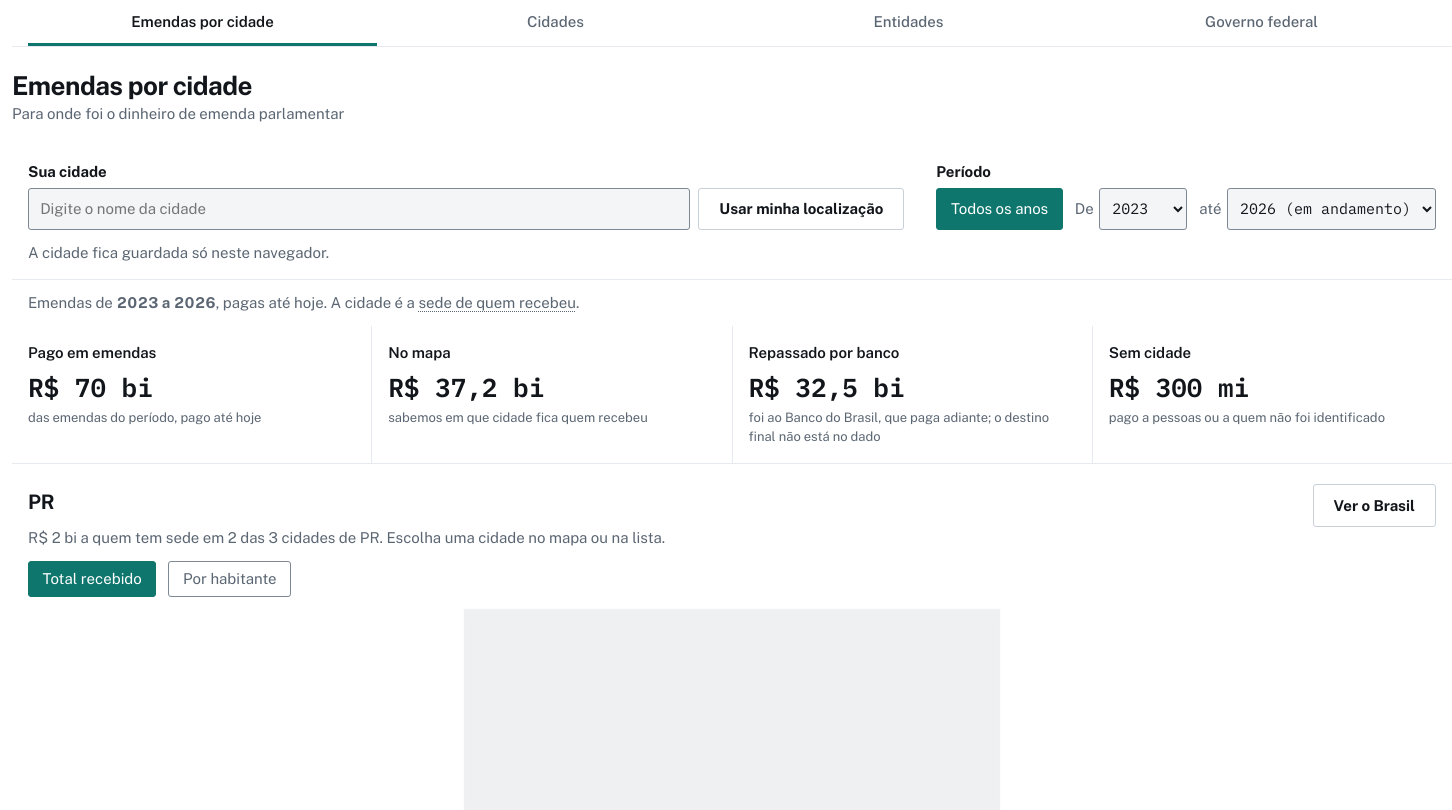
it: as cidades por habitante › reordena as cidades do estado pelo valor por habitante
Step 1. Click the button "Por habitante" → (230, 579), box top-left (168, 561), bottom-right (291, 597)
(page scrolled)
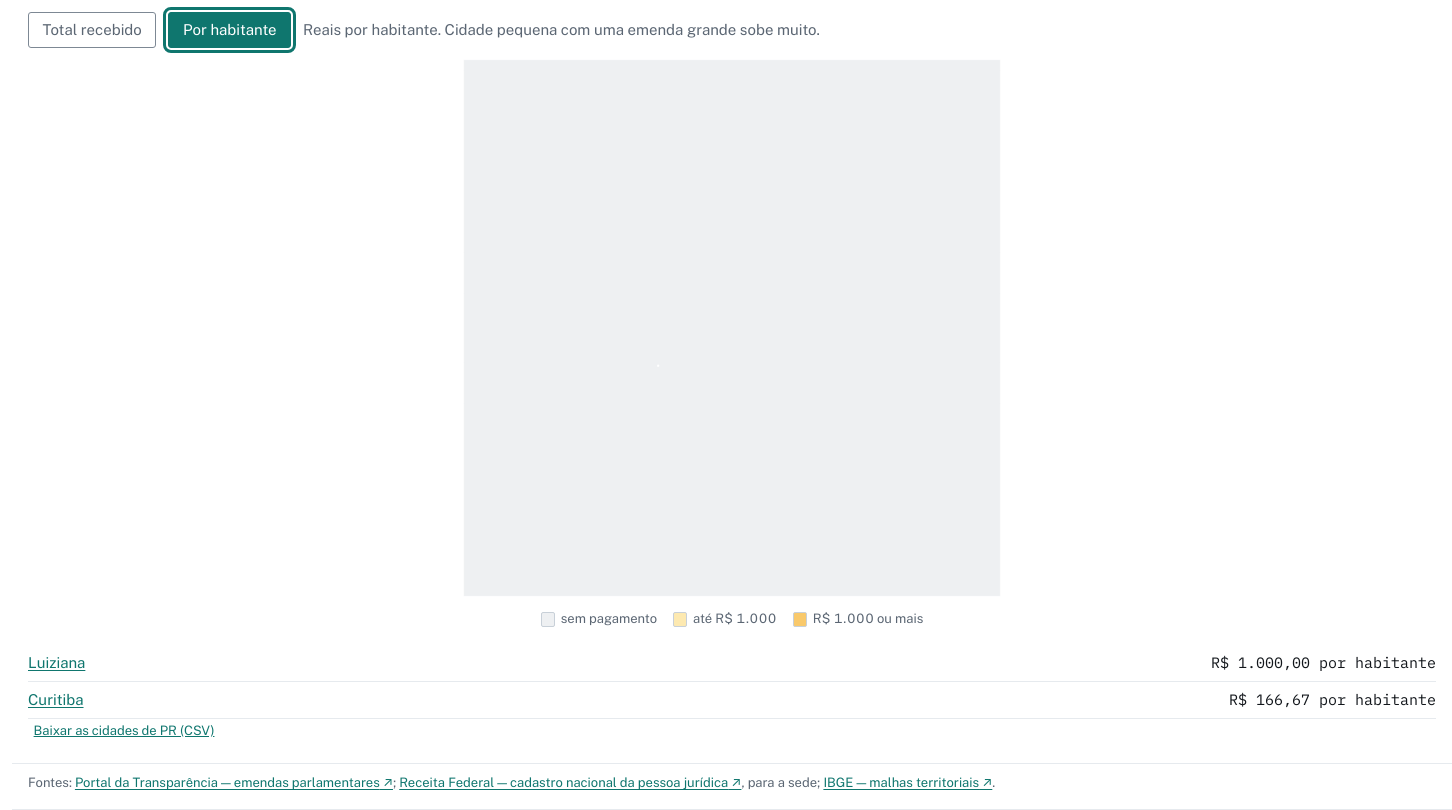
expect the list item "Luiziana R$ 1.000,00 por habitante" is shown: met, box top-left (28, 645), bottom-right (1436, 682)
